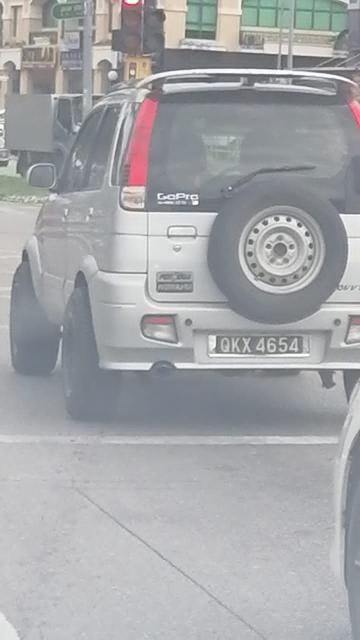License_Plate: (218, 337, 304, 355)
car: (1, 70, 360, 431)
